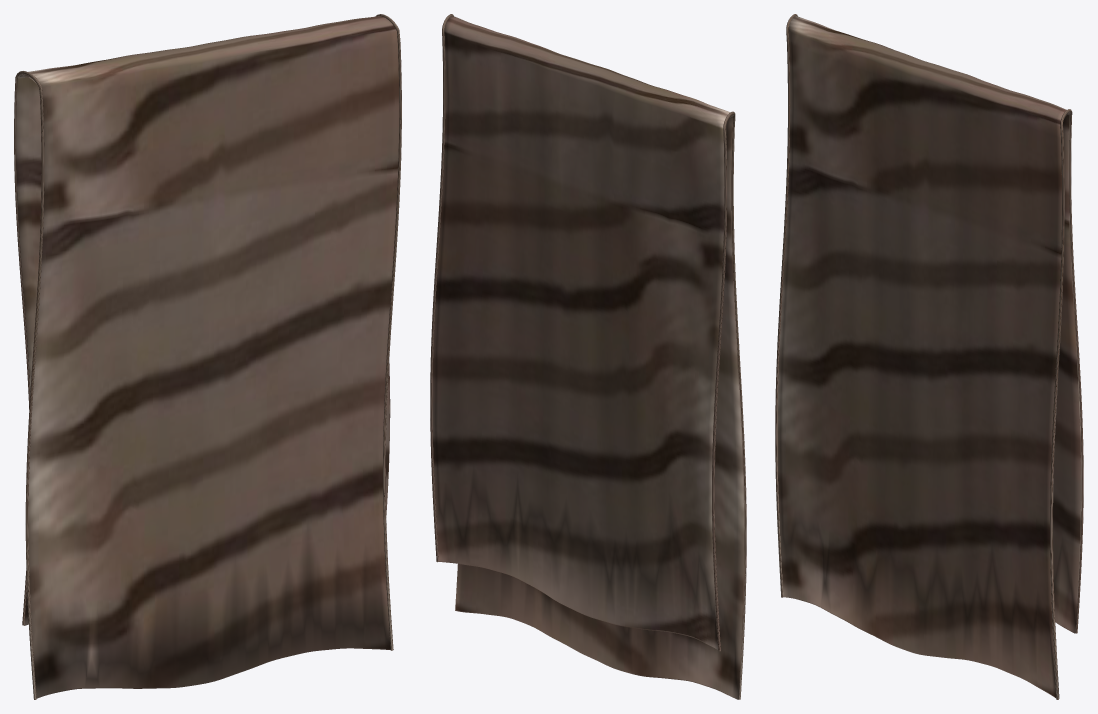
The picture shows the model from 3 angles, left to right: view 1: azimuth 30°, elevation 25°; view 2: azimuth 150°, elevation 25°; view 3: azimuth 330°, elevation 25°; orthographic projection. The views are drawn at different scales.
Visible parts, largest first — view 1: body; view 2: body; view 3: body.
Boxes of the visible parts, box(x1,y1,x2,y2) form: body: box(14, 14, 401, 699); body: box(430, 14, 746, 699); body: box(775, 14, 1083, 699).
Size of the model in its own units: 0.2294 by 0.398 by 0.0567.
1 material, 1 textured.
